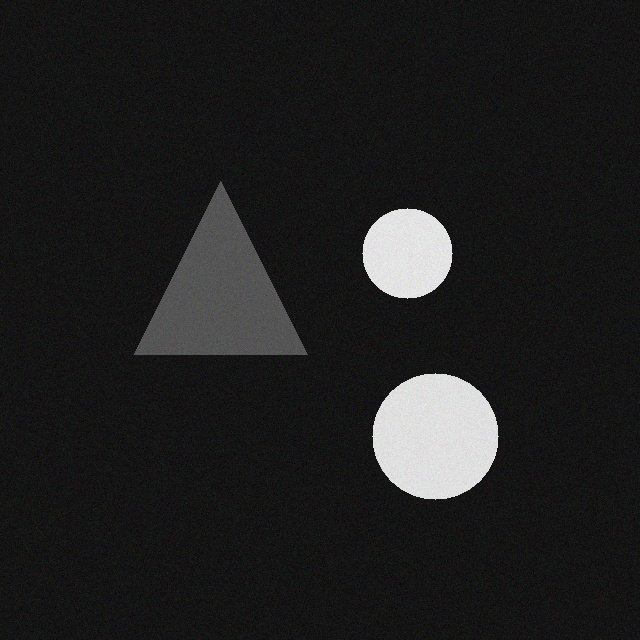circle: (369, 368, 495, 494), (359, 203, 449, 293)
triangle: (131, 176, 304, 349)
